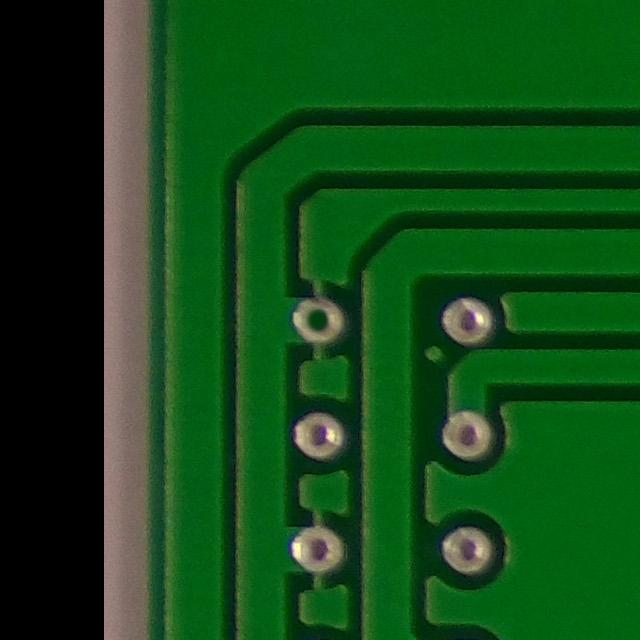missing_hole: (281, 285, 359, 356)
